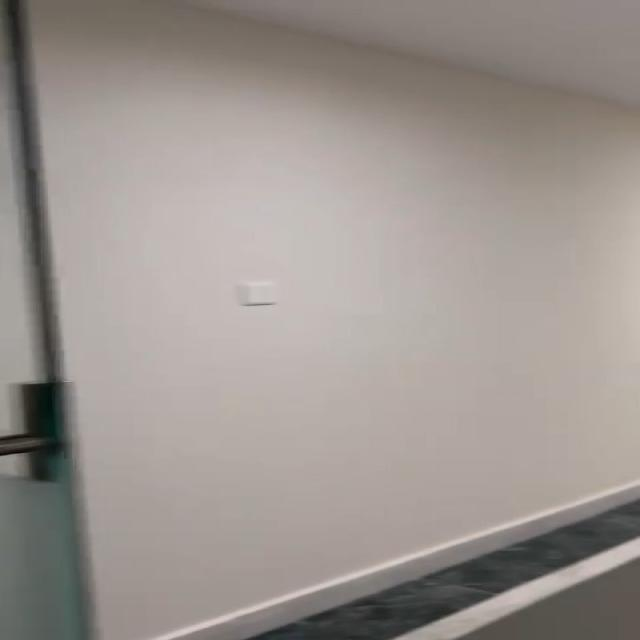wall: (91, 0, 640, 543)
